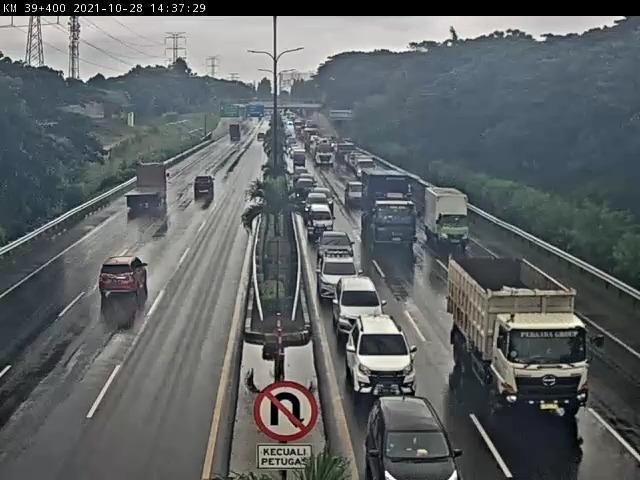car: (360, 391, 454, 480), (347, 318, 413, 397), (334, 276, 385, 340), (100, 256, 151, 302), (317, 252, 363, 299), (318, 236, 356, 271), (305, 204, 334, 240), (191, 178, 217, 200)
truck: (446, 256, 600, 420), (363, 170, 424, 257), (426, 186, 470, 248), (127, 164, 168, 215)
